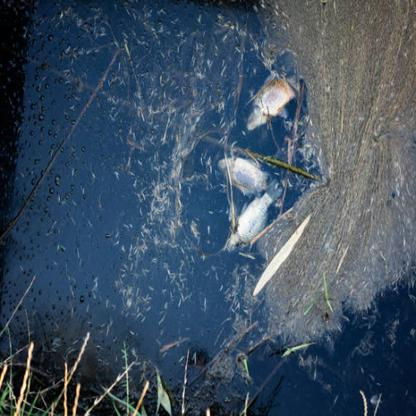deceased fish: (235, 184, 284, 246), (212, 156, 268, 193)
